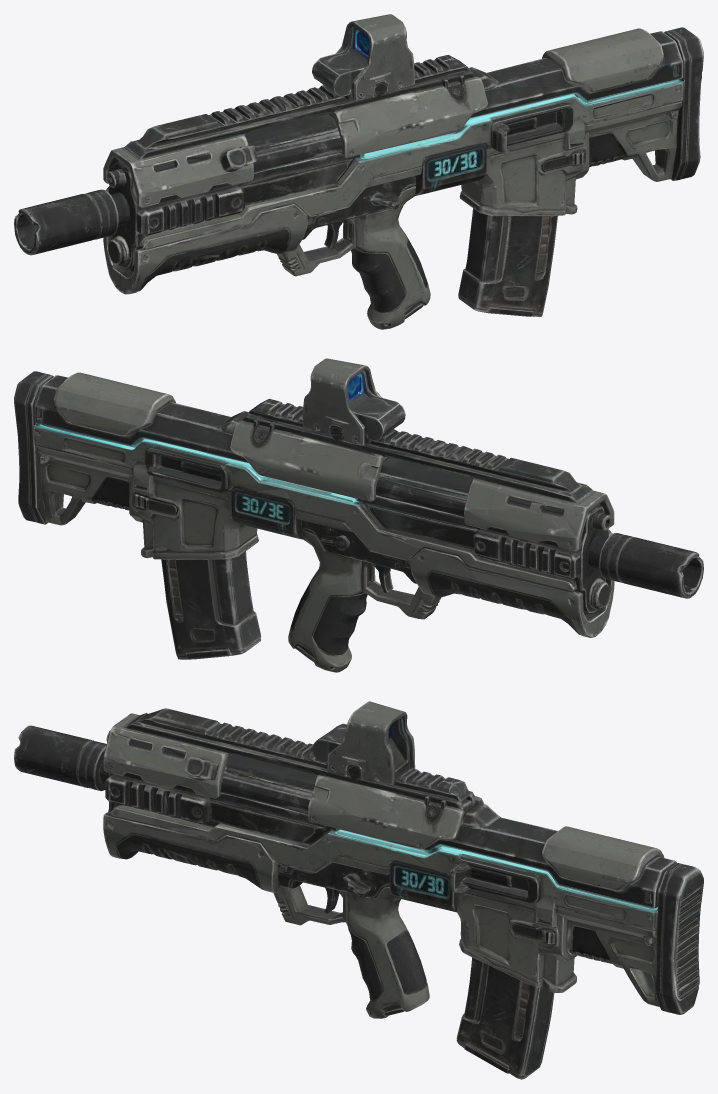
The model's file is gun_ar-high.glb.
The picture shows the model from 3 angles, top to bottom: view 1: azimuth 30°, elevation 25°; view 2: azimuth 150°, elevation 25°; view 3: azimuth 330°, elevation 25°; orthographic projection.
Visible parts, largest first — view 1: Mesh_0; view 2: Mesh_0; view 3: Mesh_0.
Boxes of the visible parts, <box> form: Mesh_0: <box>14,14,703,329</box>; Mesh_0: <box>14,358,703,672</box>; Mesh_0: <box>14,701,703,1079</box>.
Size of the model in its own units: 1.9 by 0.8817 by 0.227.
Materials: 1 (1 with a texture image).
